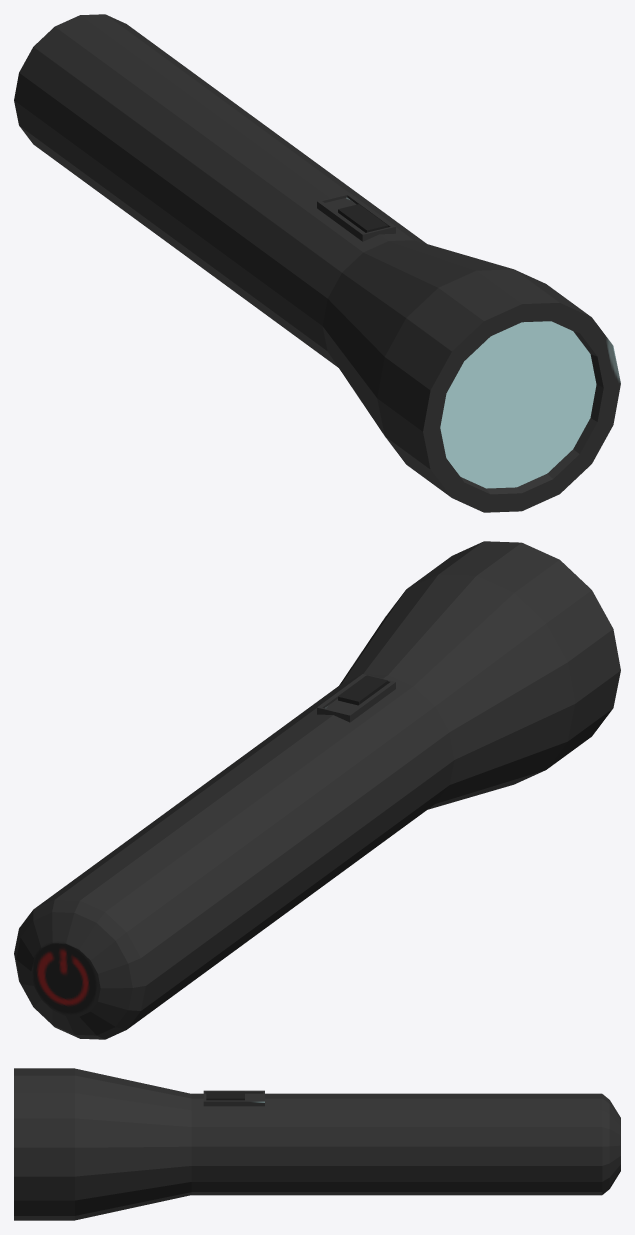
The model's file is flashlight_001.fbx.
The picture shows the model from 3 angles, top to bottom: view 1: azimuth 30°, elevation 25°; view 2: azimuth 150°, elevation 25°; view 3: azimuth 270°, elevation 25°; orthographic projection. The views are drawn at different scales.
Parts seen in each view (by area): view 1: Circle; view 2: Circle; view 3: Circle.
Part boxes in pixels (<box>): Circle: <box>14,14,620,512</box>; Circle: <box>14,541,620,1039</box>; Circle: <box>14,1068,620,1220</box>.
Size of the model in its own units: 3 by 3 by 11.97.
